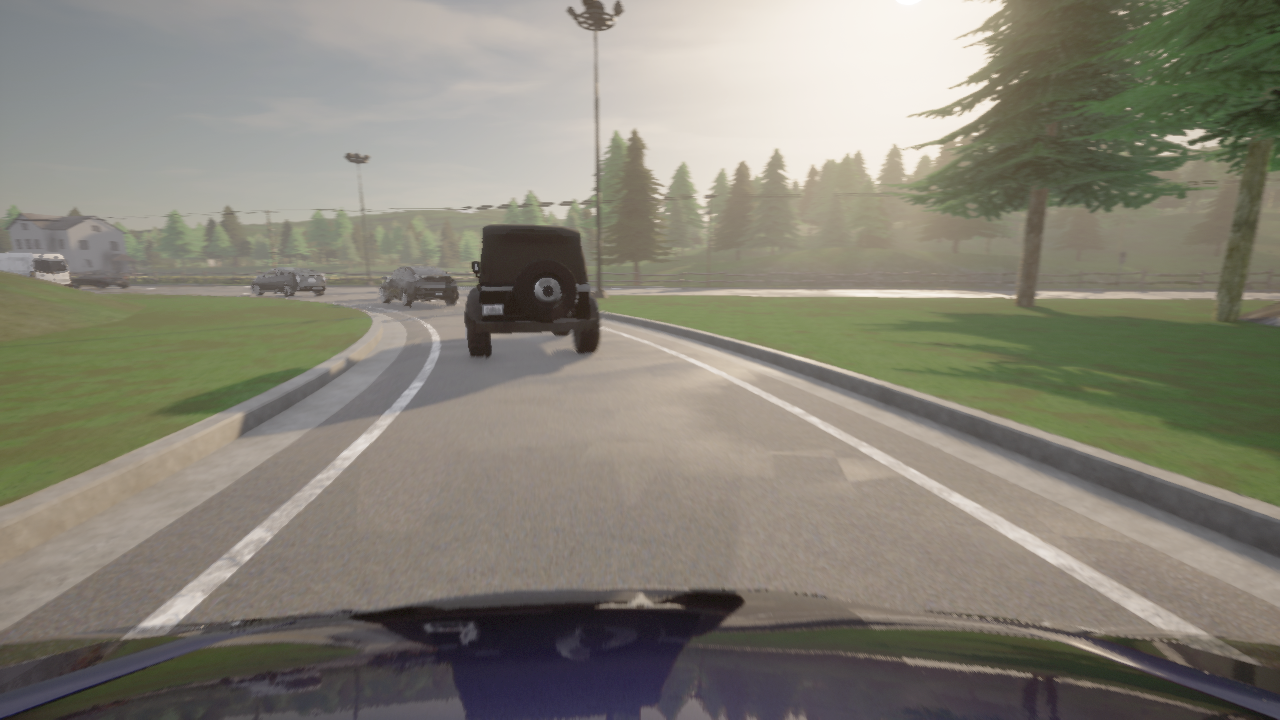cyclist: (0, 588, 1279, 719), (465, 225, 599, 358), (378, 266, 456, 306), (251, 268, 325, 297), (72, 271, 128, 288)
